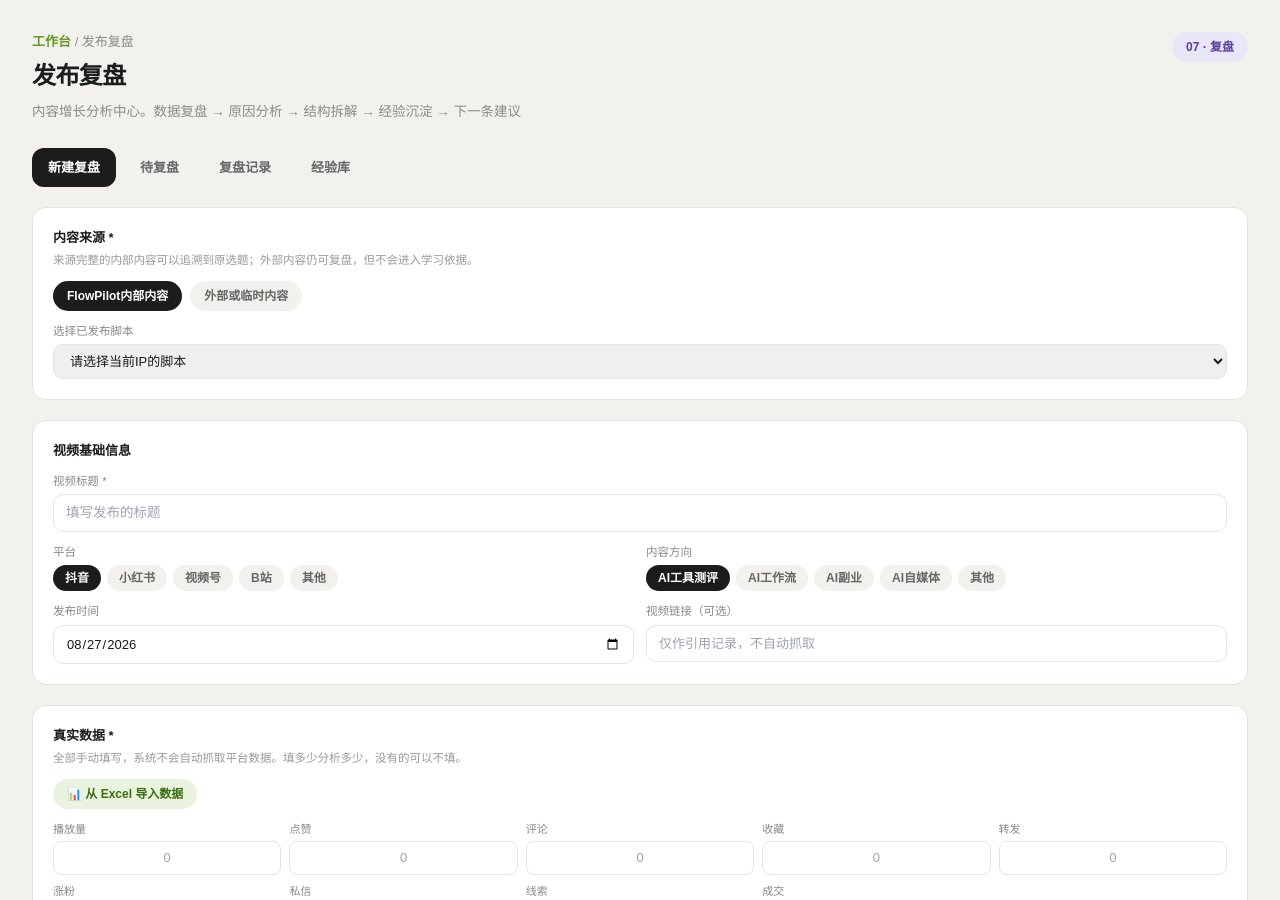
Test: 复盘记录把知识关联暂不可用与无关联明确区分
The width and height of the screenshot is (1280, 900).
What coordinates should you click on to do the following:
click the button "复盘记录"
I would click on:
 (245, 167)
Its box is [203, 148, 287, 187].
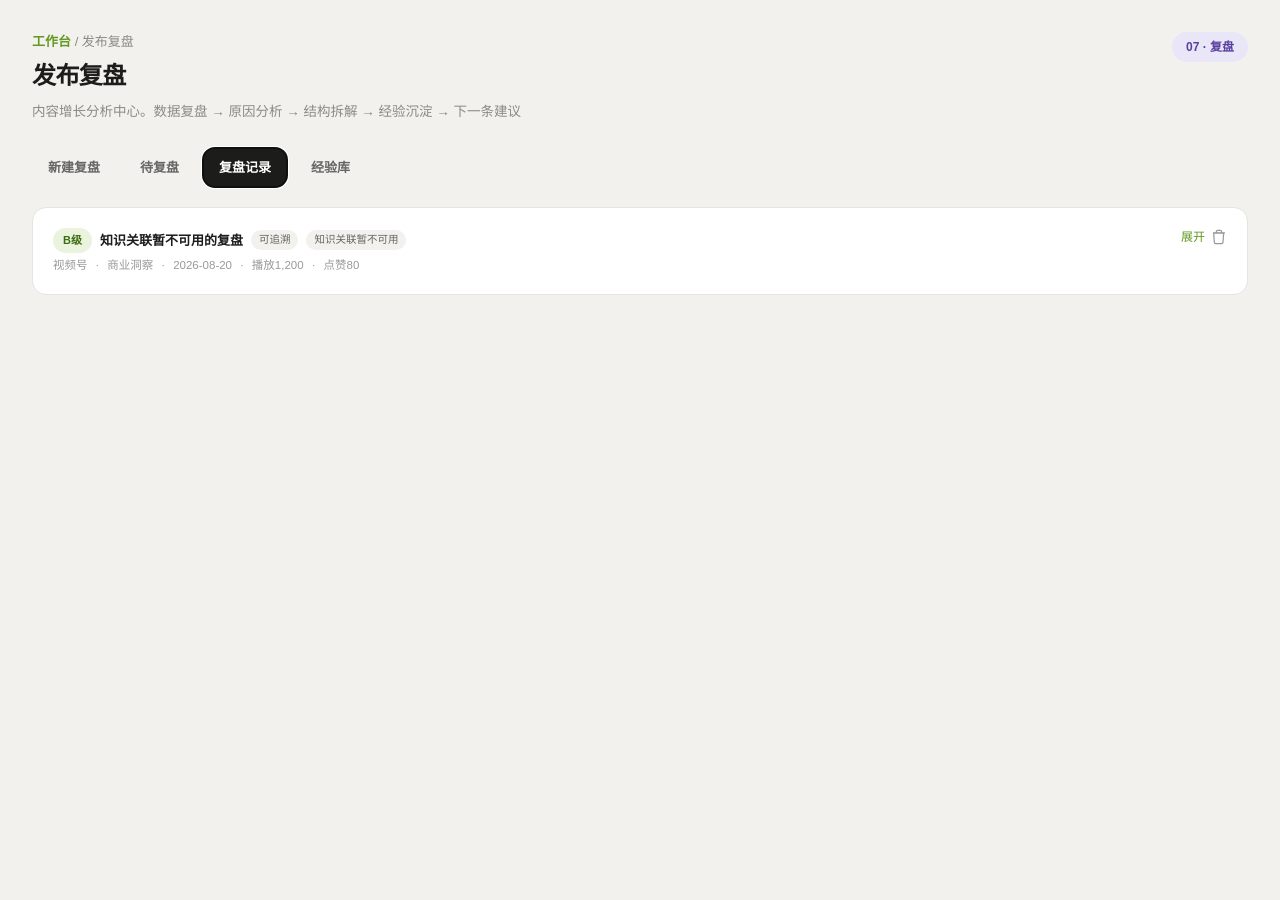
Now the text "知识关联暂不可用" is shown, box [306, 230, 406, 250]
